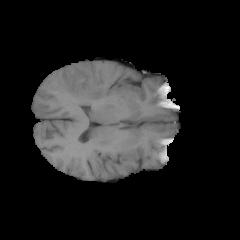glioma: (56, 62, 117, 106)
